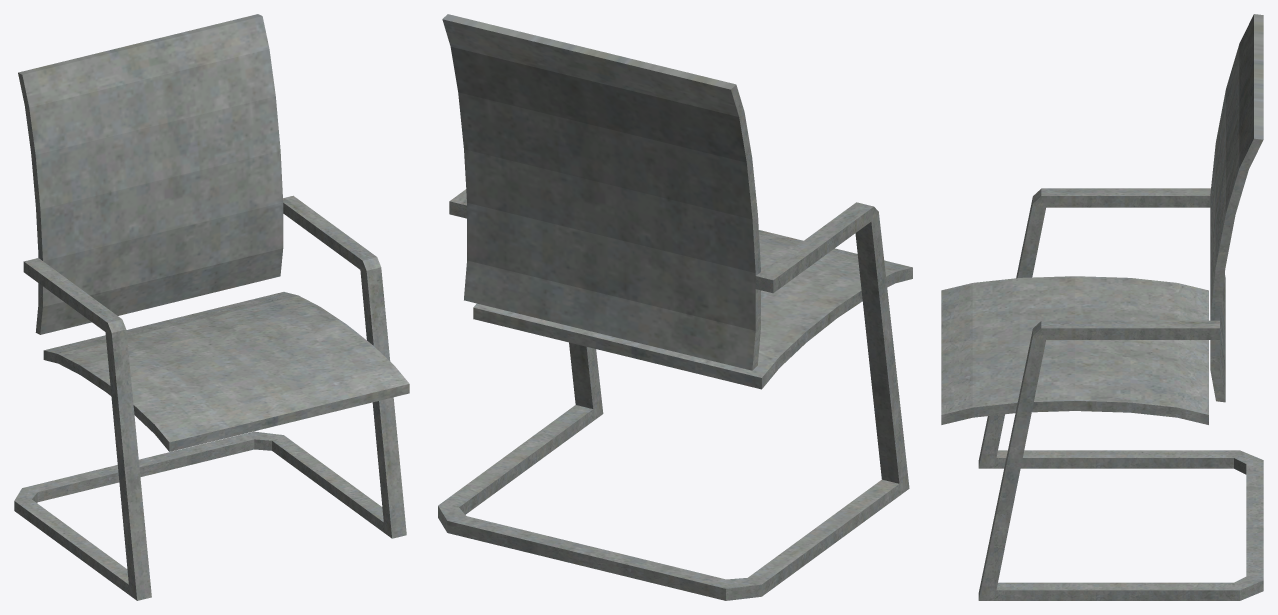
File: frn_all_chair_cafe_s01_l0.fbx
3 renders of one model, left to right at view 1: azimuth 30°, elevation 25°; view 2: azimuth 150°, elevation 25°; view 3: azimuth 270°, elevation 25°, orthographic. The views are drawn at different scales.
Visible parts, largest first — view 1: mesh_node; view 2: mesh_node; view 3: mesh_node.
Boxes of the visible parts, box(x1,y1,x2,y2) form: mesh_node: box(14, 14, 409, 600); mesh_node: box(438, 14, 912, 600); mesh_node: box(941, 14, 1263, 600).
Bounding box in the file's own units: 0.621 × 0.9416 × 0.6047.
